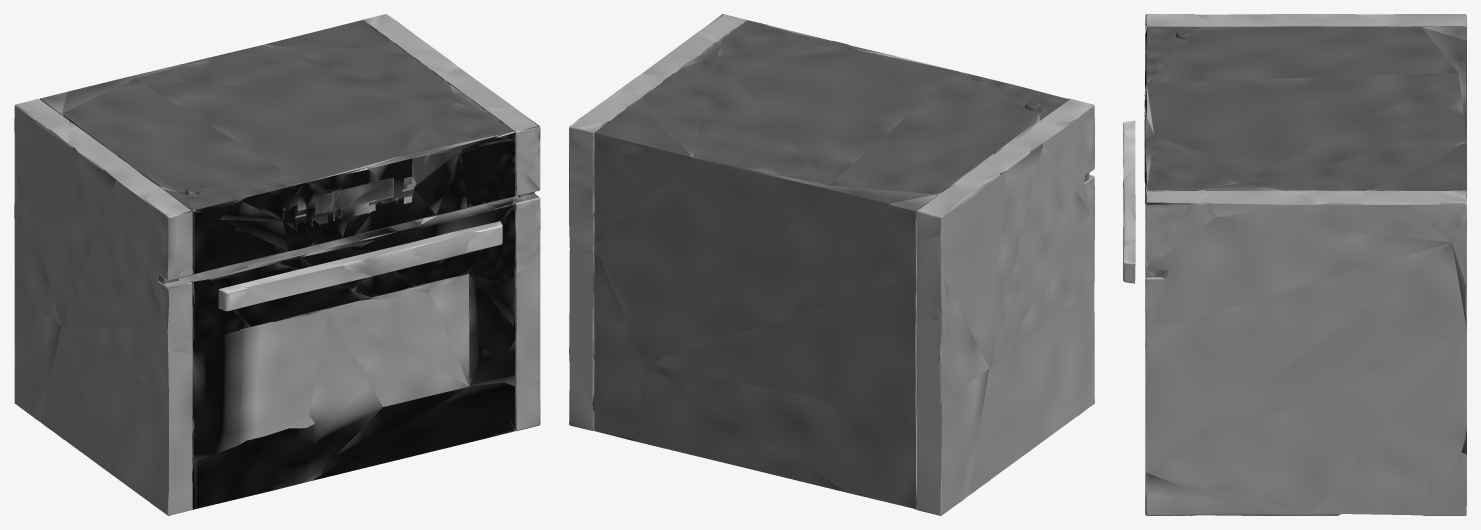
The model's file is blomberg-combi-oven-okw9440x.glb.
3 views of the same model, side by side, from view 1: azimuth 30°, elevation 25°; view 2: azimuth 150°, elevation 25°; view 3: azimuth 270°, elevation 25° (orthographic). The views are drawn at different scales.
Size of the model in its own units: 1.9 by 1.48 by 1.46.
Materials: 1 (1 with a texture image).
